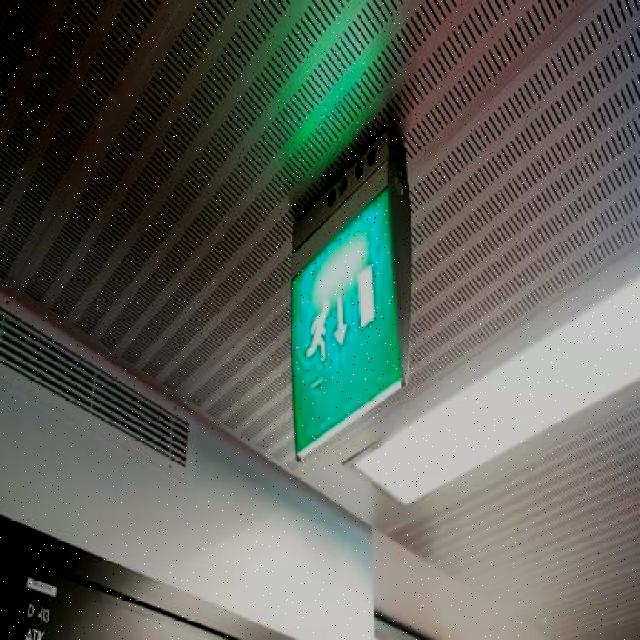emergency_exit: (287, 123, 412, 461)
